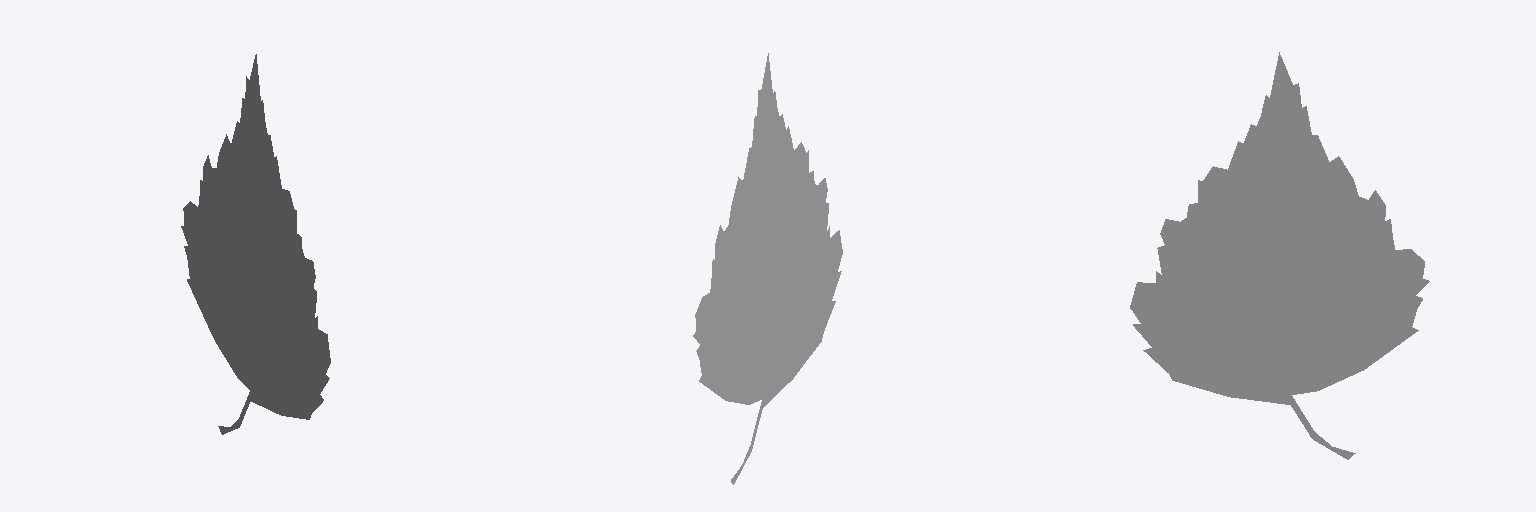
Rendered from leaf4.obj.
3 views of the same model, side by side, from view 1: azimuth 30°, elevation 25°; view 2: azimuth 150°, elevation 25°; view 3: azimuth 270°, elevation 25° (orthographic).
Parts seen in each view (by area): view 1: Plane; view 2: Plane; view 3: Plane.
Boxes of the visible parts, box(x1,y1,x2,y2) form: Plane: box(181, 54, 330, 434); Plane: box(693, 53, 842, 484); Plane: box(1130, 52, 1429, 459).
Size of the model in its own units: 0 by 0.6334 by 0.4219.